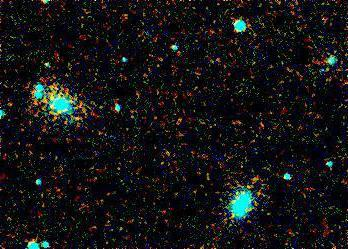star: (0, 93, 26, 123)
